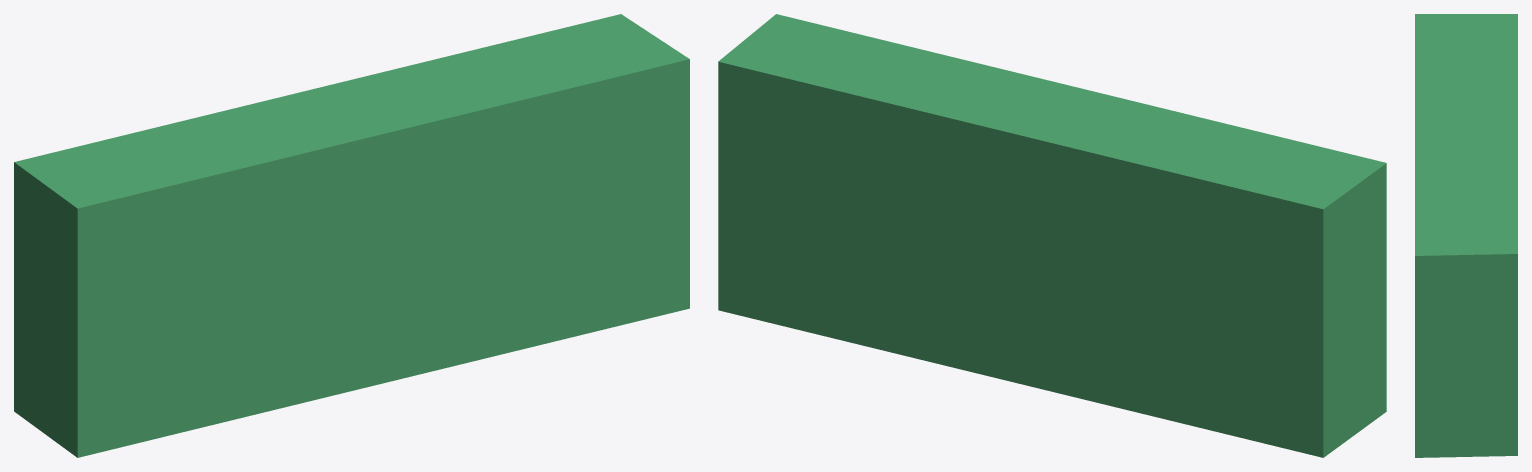
3 renders of one model, left to right at view 1: azimuth 30°, elevation 25°; view 2: azimuth 150°, elevation 25°; view 3: azimuth 270°, elevation 25°, orthographic. The views are drawn at different scales.
Parts seen in each view (by area): view 1: decomp_3.obj; view 2: decomp_3.obj; view 3: decomp_3.obj.
Part boxes in pixels (bbox=[...]): decomp_3.obj: bbox=[14, 14, 689, 457]; decomp_3.obj: bbox=[718, 14, 1386, 457]; decomp_3.obj: bbox=[1415, 14, 1517, 457].
Bounding box in the file's own units: 0.0423 × 0.0165 × 0.0076.
